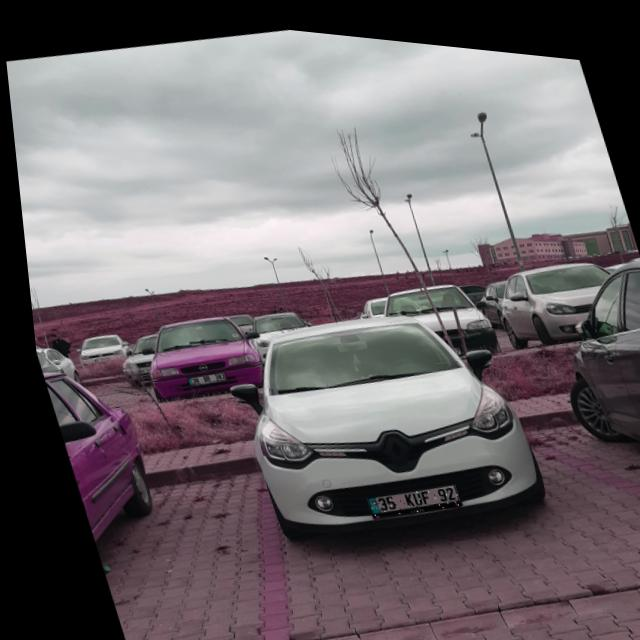license_plate: (355, 470, 452, 517)
